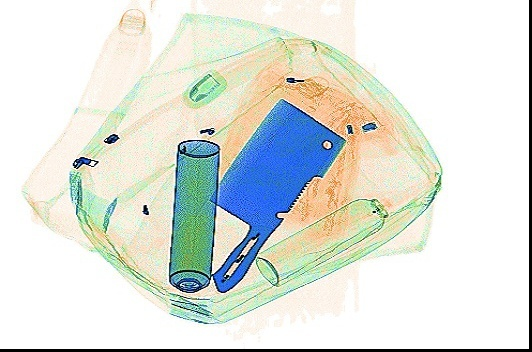knife: (204, 95, 347, 293)
pressure: (251, 194, 394, 286), (165, 136, 221, 296)
